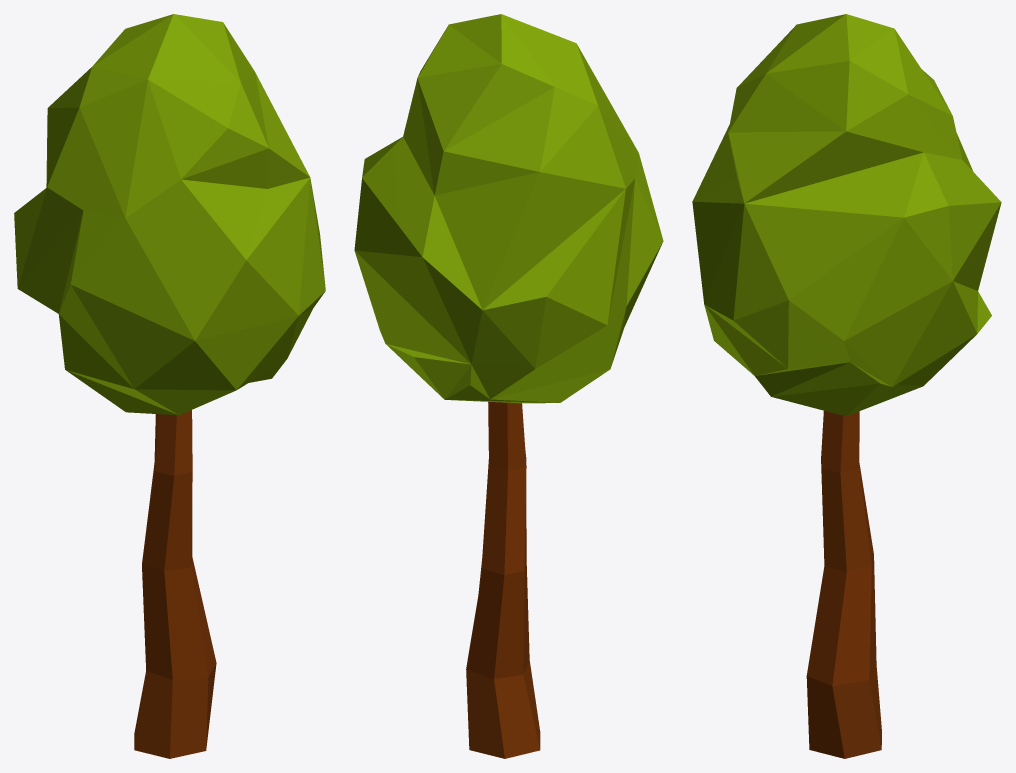
File: Tree_2_Green.fbx
The picture shows the model from 3 angles, left to right: view 1: azimuth 30°, elevation 25°; view 2: azimuth 150°, elevation 25°; view 3: azimuth 270°, elevation 25°; orthographic projection.
Visible parts, largest first — view 1: pCube1, pCylinder1; view 2: pCube1, pCylinder1; view 3: pCube1, pCylinder1.
Part boxes in pixels (x1=…): pCube1: x1=14, y1=14, x2=325, y2=415; pCylinder1: x1=134, y1=410, x2=216, y2=758; pCube1: x1=354, y1=14, x2=663, y2=403; pCylinder1: x1=466, y1=402, x2=540, y2=758; pCube1: x1=692, y1=14, x2=1001, y2=416; pCylinder1: x1=806, y1=411, x2=881, y2=758.
Bounding box in the file's own units: 324 × 857 × 330.
